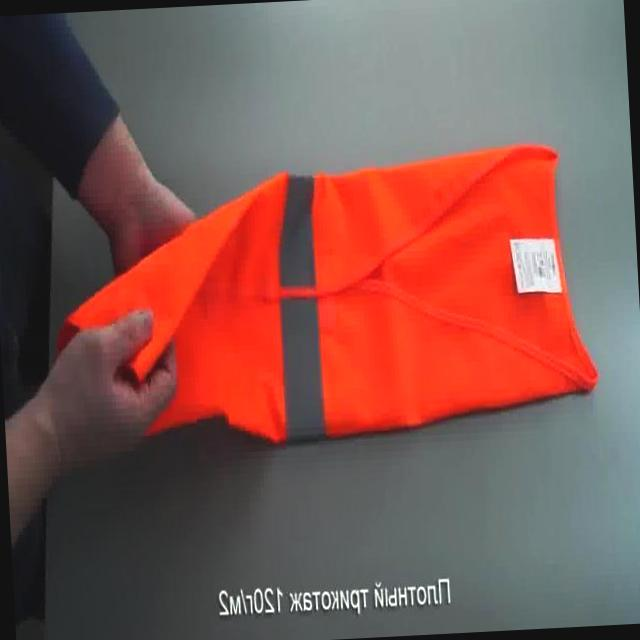vest: (44, 137, 603, 459)
